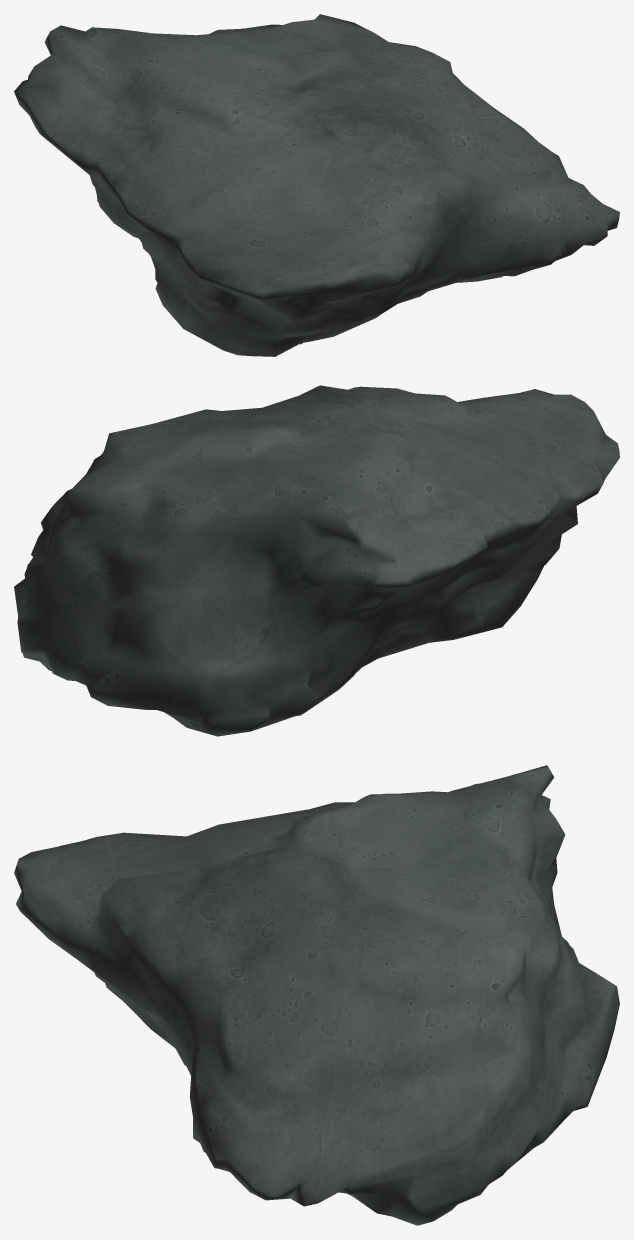
The model's file is Cliff_Glitter01.fbx.
The picture shows the model from 3 angles, top to bottom: view 1: azimuth 30°, elevation 25°; view 2: azimuth 150°, elevation 25°; view 3: azimuth 270°, elevation 25°; orthographic projection. The views are drawn at different scales.
Parts seen in each view (by area): view 1: SM_Cliff_Rock_Glitter1.mo; view 2: SM_Cliff_Rock_Glitter1.mo; view 3: SM_Cliff_Rock_Glitter1.mo.
Boxes of the visible parts, left/top/right/bottom form: SM_Cliff_Rock_Glitter1.mo: left=14, top=14, right=619, bottom=356; SM_Cliff_Rock_Glitter1.mo: left=14, top=385, right=619, bottom=736; SM_Cliff_Rock_Glitter1.mo: left=14, top=765, right=619, bottom=1225.
Size of the model in its own units: 751 by 404 by 773.
